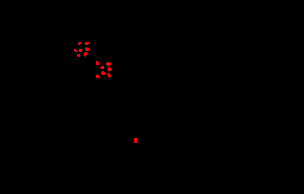Target: (106, 62, 111, 66), (107, 67, 112, 71), (107, 73, 111, 78), (85, 47, 89, 51), (101, 71, 105, 75), (85, 42, 90, 45), (84, 52, 87, 57), (134, 138, 137, 143), (96, 61, 99, 65), (100, 66, 104, 69), (96, 74, 99, 78), (78, 42, 81, 45), (74, 49, 77, 52), (79, 49, 82, 52), (77, 54, 80, 57)
